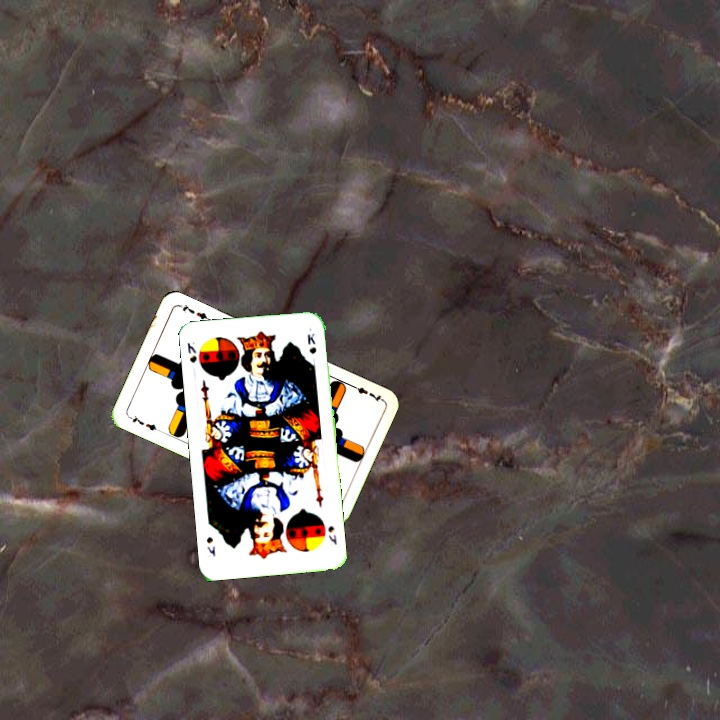E7: (346, 380, 384, 405), (125, 411, 164, 434)
SK: (183, 337, 199, 365), (324, 522, 339, 547)
